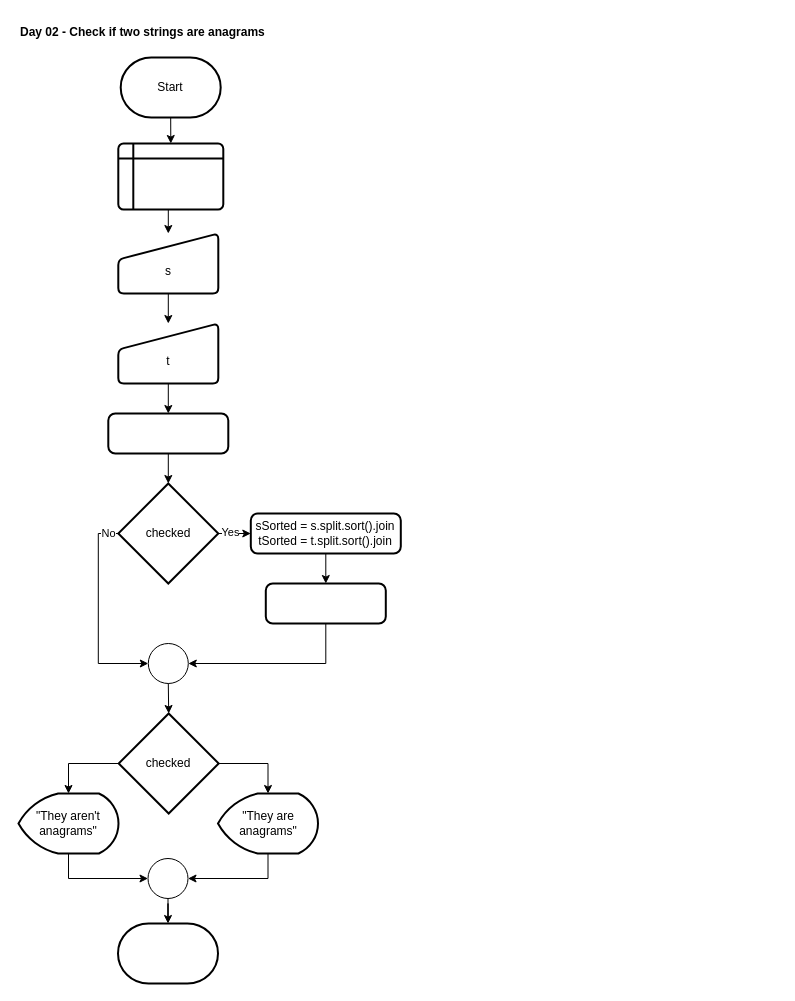
Some shapes in this 795 by 1001 pixel diagram are drawn without their labels. The shapes that lost their labels are listed below. From the top down, each one's centre as x and y in pixels, then its label:
pixel 170 176: s, t checked
pixel 168 433: checked = s.length === t.length
pixel 325 603: checked = sSorted === tSorted
pixel 167 953: Stop
